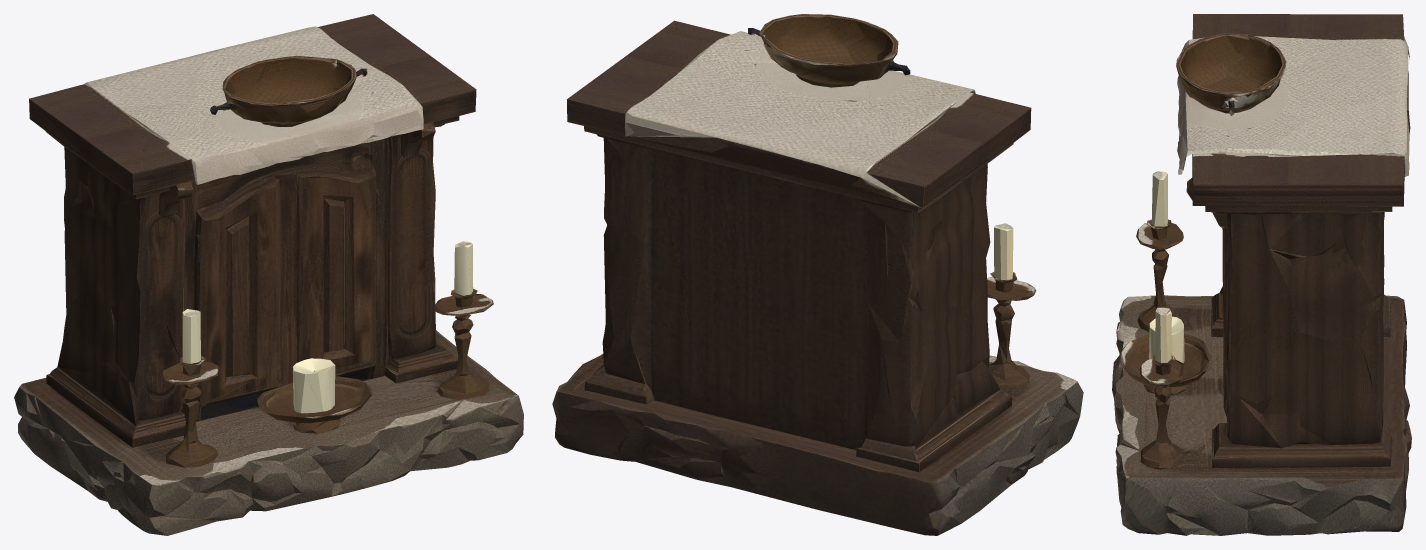
File: altar.glb
3 views of the same model, side by side, from view 1: azimuth 30°, elevation 25°; view 2: azimuth 150°, elevation 25°; view 3: azimuth 270°, elevation 25° (orthographic). The views are drawn at different scales.
Parts seen in each view (by area): view 1: altar; view 2: altar; view 3: altar.
Part boxes in pixels (box(x1,y1,x2,y2)): altar: box(14, 14, 523, 535); altar: box(552, 14, 1083, 535); altar: box(1112, 14, 1411, 535).
Bounding box in the file's own units: 1.14 × 1.05 × 0.75.
1 material, 1 textured.
